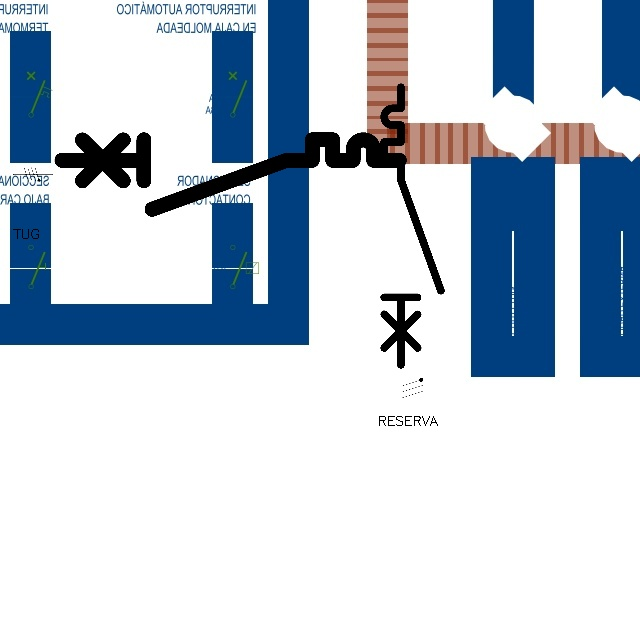interruptor_termomagnetico: (53, 131, 408, 217), (377, 80, 448, 372)
